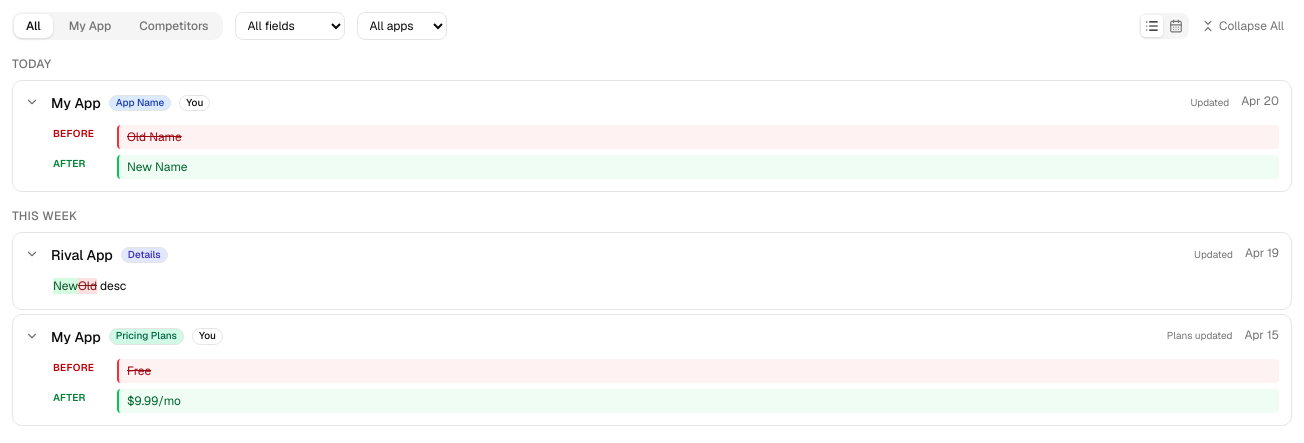
Test case: UnifiedChangeLog › switches back to list view
The width and height of the screenshot is (1304, 443).
Click the button named "Calendar view" at (1176, 26), box [1165, 15, 1187, 37]
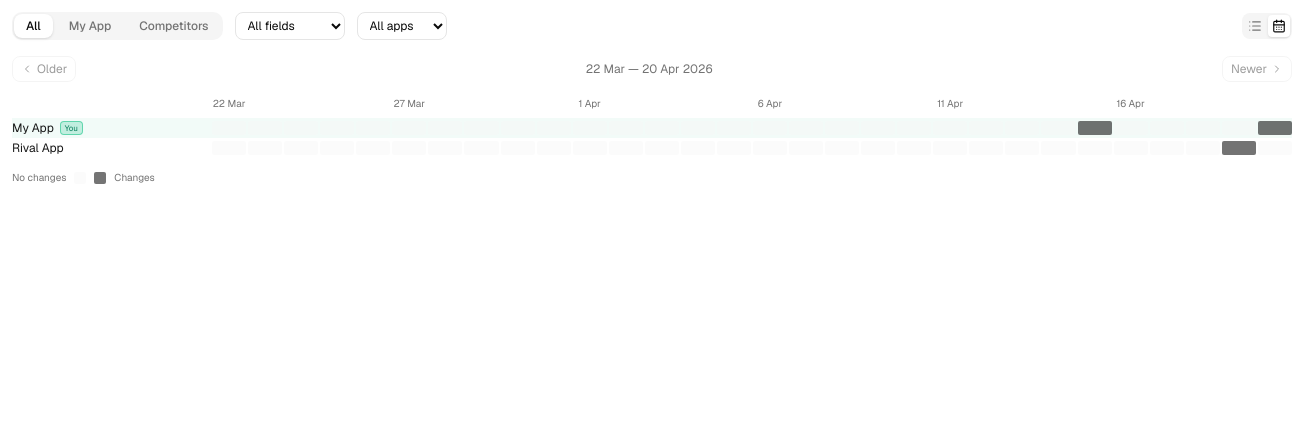
Click the button named "List view" at (1255, 26), box [1244, 15, 1266, 37]
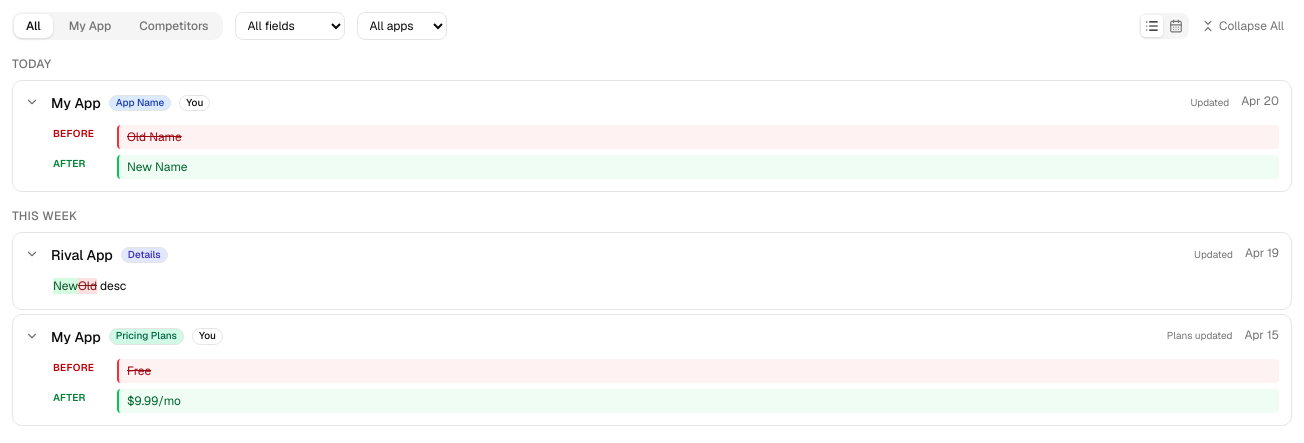
Expected: the button "Collapse All" is shown, [1193, 14, 1292, 38]
